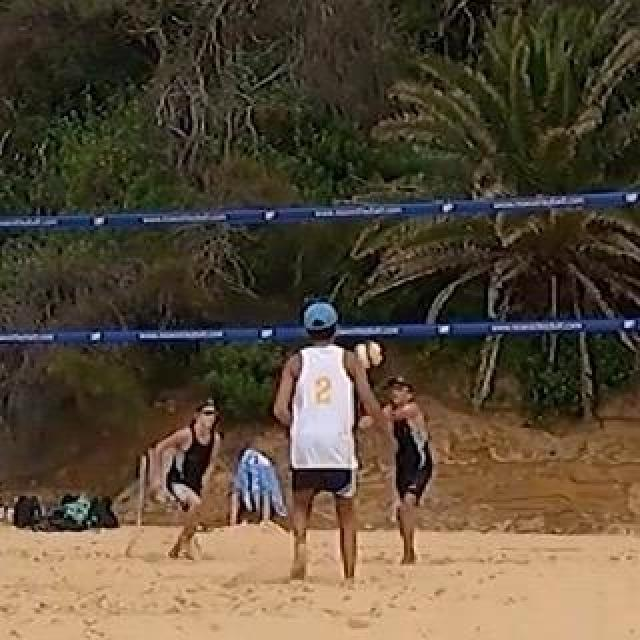volleyball: (354, 339, 382, 369)
